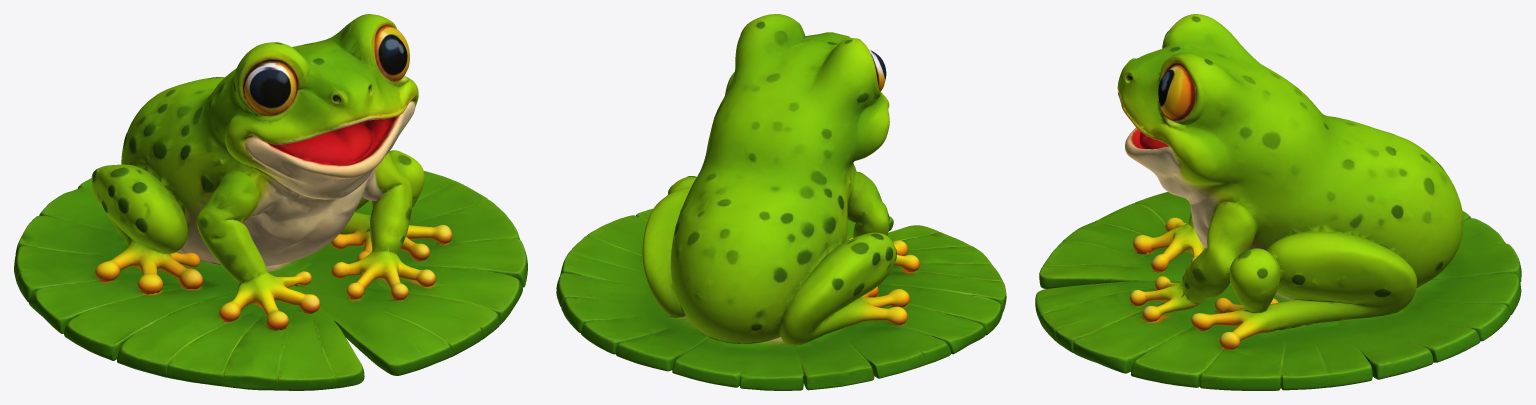
The model's file is frog3d.glb.
3 renders of one model, left to right at view 1: azimuth 30°, elevation 25°; view 2: azimuth 150°, elevation 25°; view 3: azimuth 270°, elevation 25°, orthographic. The views are drawn at different scales.
Parts seen in each view (by area): view 1: tripo_node_c100503a-c767-4727-8672-989b1bdc20b7; view 2: tripo_node_c100503a-c767-4727-8672-989b1bdc20b7; view 3: tripo_node_c100503a-c767-4727-8672-989b1bdc20b7.
Part boxes in pixels (x1,y1,x2,y2): tripo_node_c100503a-c767-4727-8672-989b1bdc20b7: [14, 14, 527, 390]; tripo_node_c100503a-c767-4727-8672-989b1bdc20b7: [556, 14, 1006, 390]; tripo_node_c100503a-c767-4727-8672-989b1bdc20b7: [1035, 14, 1521, 390].
Size of the model in its own units: 0.9998 by 0.6161 by 0.9907.
Materials: 1 (1 with a texture image).
